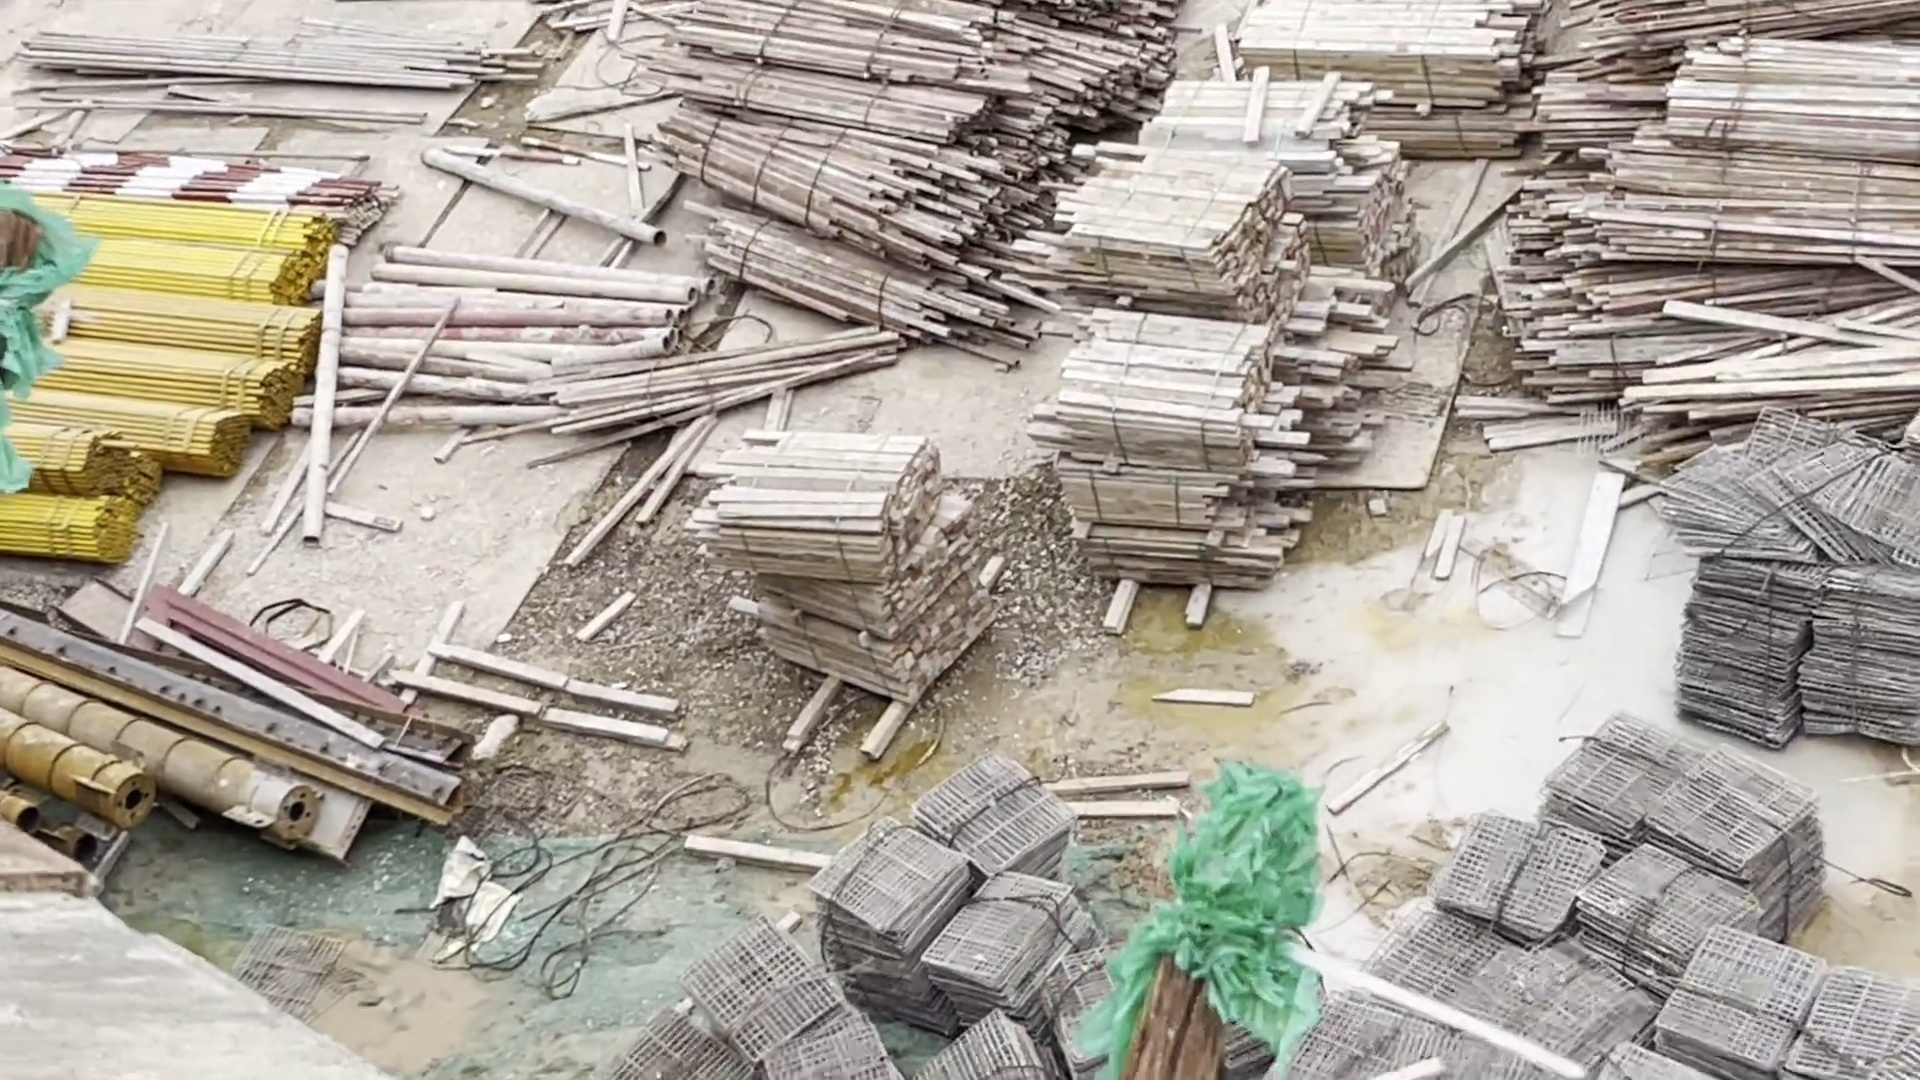wood: (1060, 79, 1414, 596), (1523, 1, 1913, 444), (659, 1, 1055, 356), (699, 433, 1002, 709), (1240, 1, 1528, 171)
